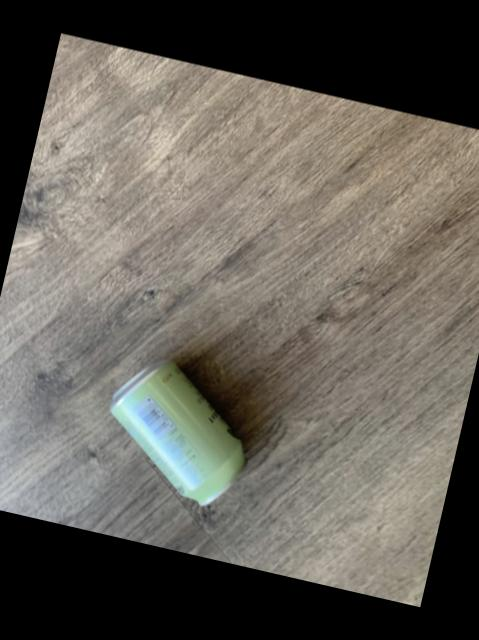metal: (110, 362, 245, 506)
